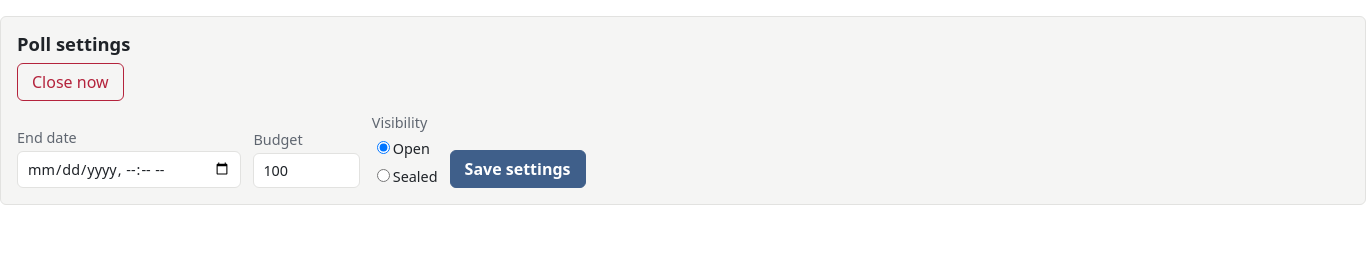
Test: PollSettings › saves end date, budget and visibility before any bids
This screenshot has width=1366, height=276.
Type "2026-10-16T20:00" into the field labelled "End date".
click(129, 170); type("2026-10-16T20:00")  # box [17,151,241,188]
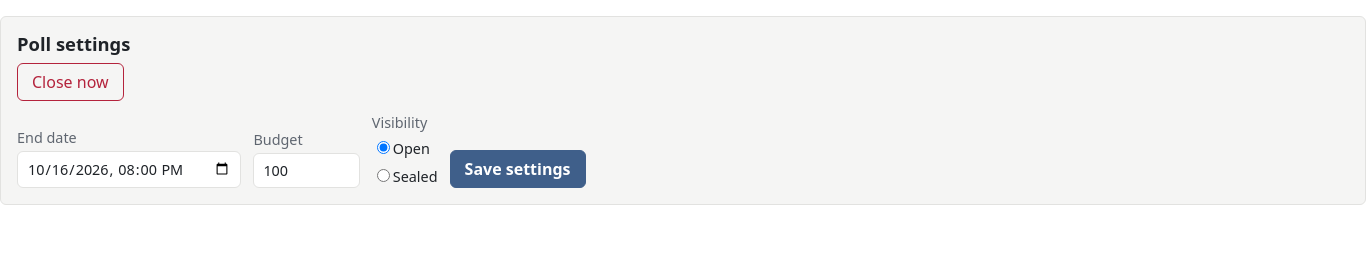
Replace the text in the number field labelled "Budget" with "150" at (307, 171), box [253,153,360,188]
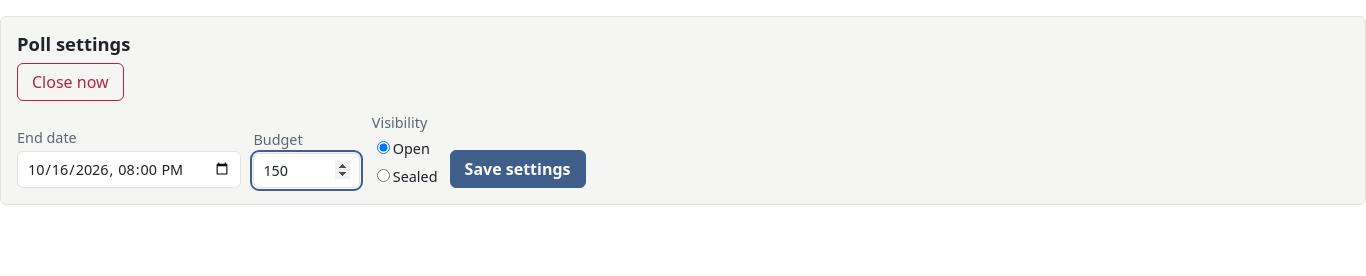
Click the radio button labelled "Sealed".
click(383, 176)  # box [377,169,390,182]
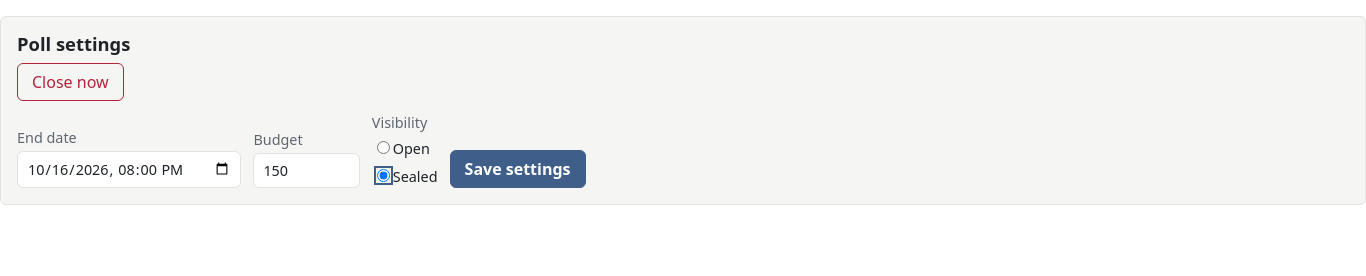
Click the button "Save settings".
click(518, 169)  # box [450,150,586,188]
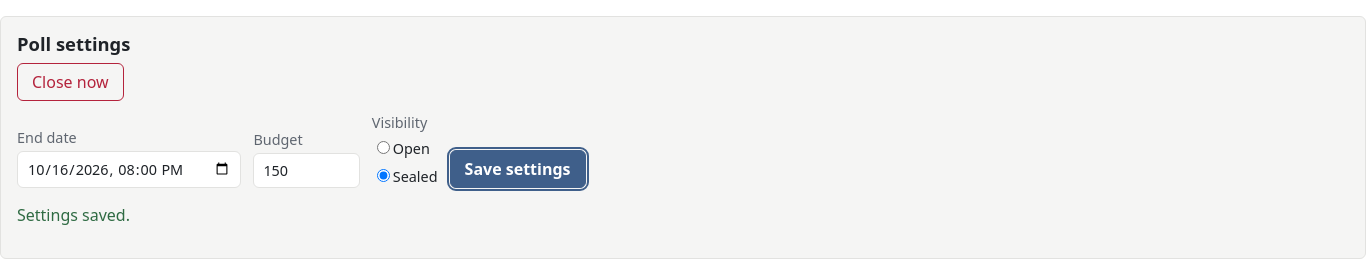
Expected: the message reads "Settings saved.", [17,204,130,226]
